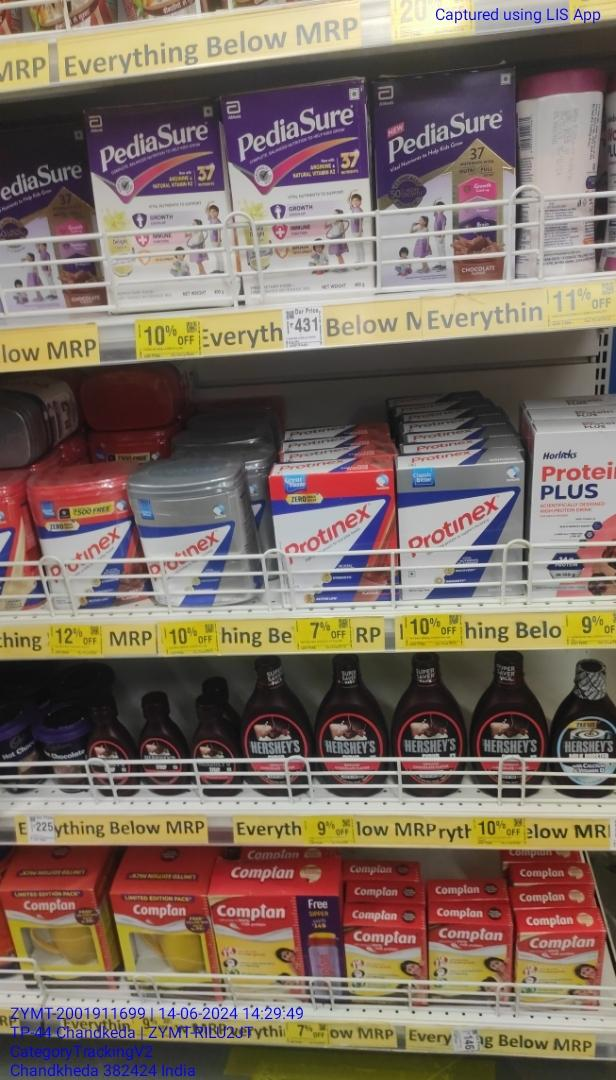COMPLAN_CHOCOLATE_200_GMS_PACK: (428, 922, 511, 1004), (345, 924, 426, 1007)
COMPLAN_KESAR_BADAM_200_GMS_PACK: (209, 893, 344, 1007), (517, 928, 603, 1011)
PEDIASURE_CHOCOLATE_500_G_PACK: (376, 70, 516, 274)
PROTINEX_CHOCOLATE_400_G_JAR: (34, 478, 130, 611)
PROTINEX_ORIGINAL_400_G_JAR: (134, 479, 246, 608)
